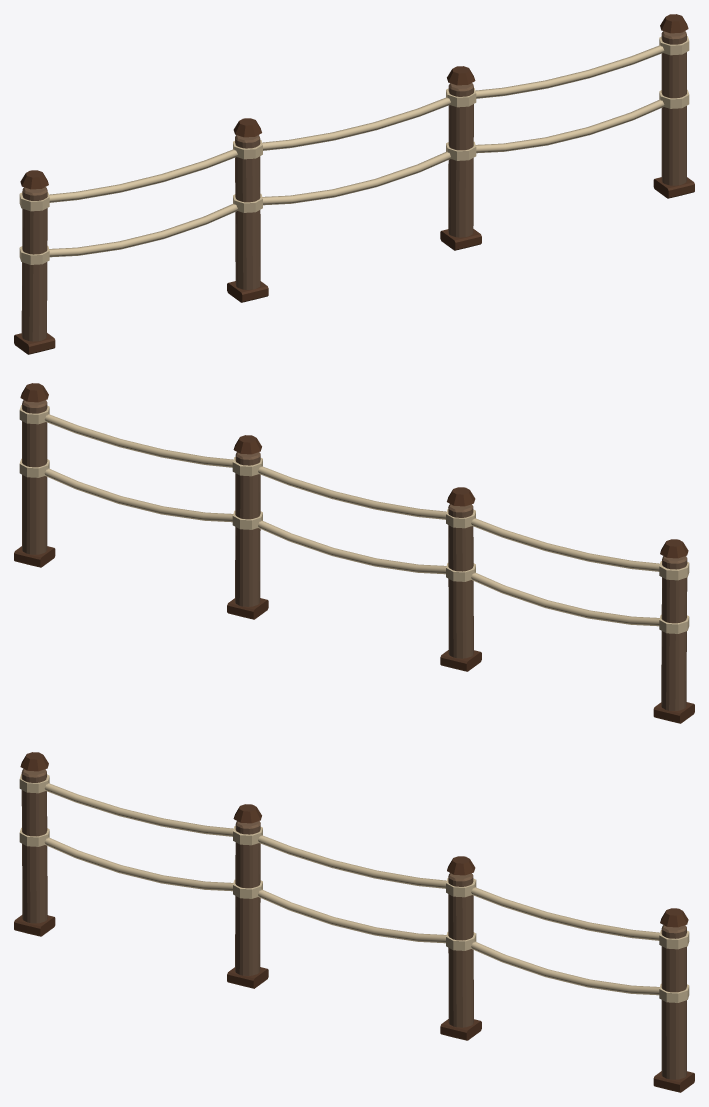
The model's file is prop_pier_railing_a.glb.
3 renders of one model, top to bottom at view 1: azimuth 30°, elevation 25°; view 2: azimuth 150°, elevation 25°; view 3: azimuth 330°, elevation 25°, orthographic.
Visible parts, largest first — view 1: railing_post_0, railing_collar_0_0, railing_post_base_0; view 2: railing_post_0, railing_collar_0_0, railing_post_base_0; view 3: railing_post_0, railing_collar_0_0, railing_post_base_0.
Boxes of the visible parts, box(x1,y1,x2,y2) form: railing_post_0: box(21, 31, 686, 341); railing_collar_0_0: box(19, 36, 689, 264); railing_post_base_0: box(14, 14, 694, 354); railing_post_0: box(22, 400, 687, 710); railing_collar_0_0: box(19, 405, 689, 633); railing_post_base_0: box(14, 383, 694, 723); railing_post_0: box(21, 769, 686, 1079); railing_collar_0_0: box(19, 774, 689, 1002); railing_post_base_0: box(14, 752, 694, 1092).
Size of the model in its own units: 4.04 by 1 by 0.1639.
